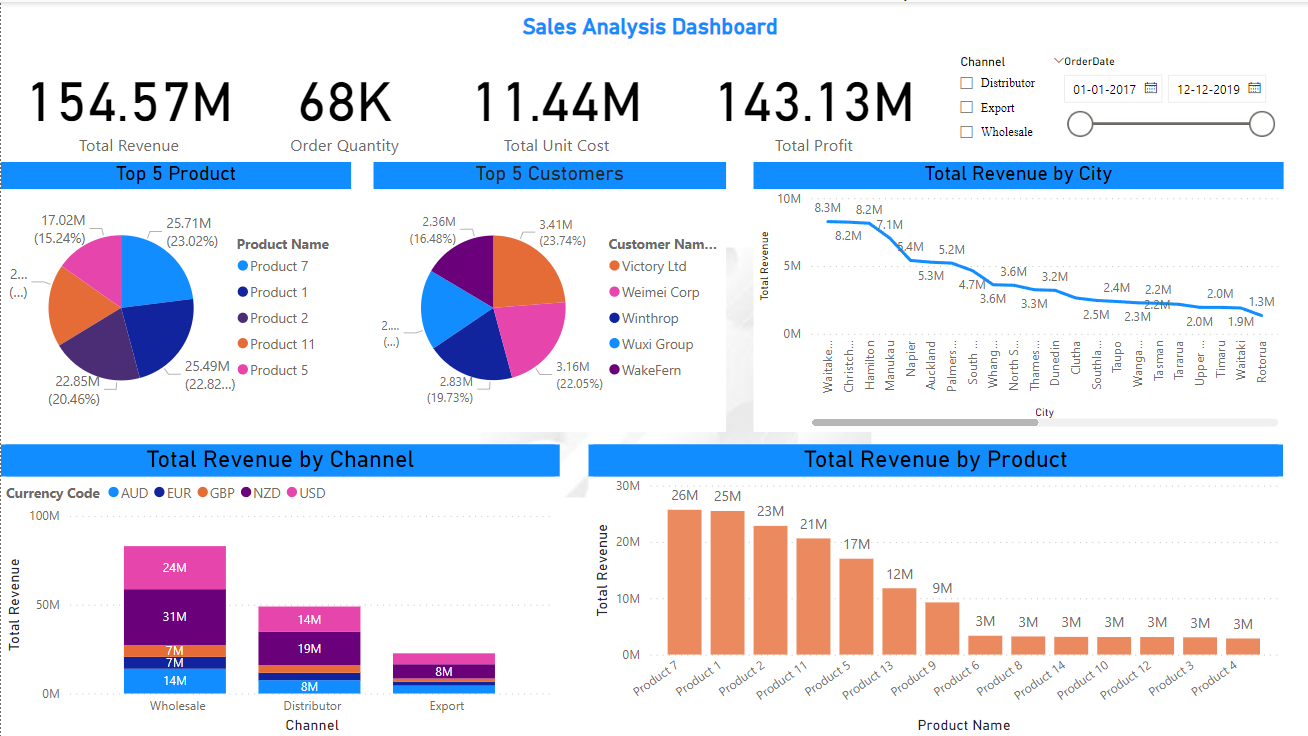

Layout of this report page (visuals, bound fields, positions):
{"tool":"powerbi","page":{"name":"Page 1","canvas":[1280,720],"ordinal":0},"visuals":[{"type":"columnChart","title":"Total Revenue by Product","fields":{"Y":["Sum(Sales_Data.Total Revenue)"],"Category":["Products_Data.Product Name"]},"box":[574.9,432.6,679.1,287.4],"z":0},{"type":"columnChart","title":"Total Revenue by Channel","fields":{"Y":["Sum(Sales_Data.Total Revenue)"],"Category":["Sales_Data.Channel"],"Series":["Sales_Data.Currency Code"]},"box":[0,432.7,546.4,287.3],"z":1000},{"type":"pieChart","title":"Top 5 Product","fields":{"Category":["Products_Data.Product Name"],"Y":["Sum(Sales_Data.Total Revenue)"]},"box":[0,156.5,342.3,264],"z":2000},{"type":"lineChart","title":"Total Revenue by City","fields":{"Y":["Sum(Sales_Data.Total Revenue)"],"Category":["Regions_Table.City"]},"box":[735.9,156.5,518.3,264],"z":3000},{"type":"card","fields":{"Values":["Sum(Sales_Data.Total Revenue)"]},"box":[0,46.5,250.8,109.9],"z":4000},{"type":"card","fields":{"Values":["Sum(Sales_Data.Order Quantity)"]},"box":[250.6,46.5,171.1,110],"z":5000},{"type":"textbox","box":[0,5.6,1163.8,40.9],"z":6000},{"type":"card","fields":{"Values":["Sum(Sales_Data.Total Unit Cost)"]},"box":[421.7,46.5,243.3,110],"z":7000},{"type":"card","fields":{"Values":["Sum(Sales_Data.Total Profit)"]},"box":[665,46.5,260.4,110],"z":8000},{"type":"slicer","fields":{"Values":["Sales_Data.Channel"]},"box":[925.4,46.5,127.1,107.6],"z":9000},{"type":"slicer","fields":{"Values":["Sales_Data.OrderDate"]},"box":[1026.8,46.5,227.4,110],"z":10000},{"type":"pieChart","title":"Top 5 Customers","fields":{"Category":["Customer_Data.Customer Names"],"Y":["Sum(Sales_Data.Total Revenue)"]},"box":[364.3,156.5,344.7,264],"z":11000}]}

Visuals, with their boxes in screenshot pixels (x1, y1, x2, y2), scaled from the page's 1280x720 canvas onto the 1308x736 screenshot:
"Total Revenue by Product" columnChart: bbox=[587, 442, 1281, 735]
"Total Revenue by Channel" columnChart: bbox=[0, 442, 558, 735]
"Top 5 Product" pieChart: bbox=[0, 160, 350, 430]
"Total Revenue by City" lineChart: bbox=[752, 160, 1282, 430]
card - Sum(Sales_Data.Total Revenue): bbox=[0, 48, 256, 160]
card - Sum(Sales_Data.Order Quantity): bbox=[256, 48, 431, 160]
textbox: bbox=[0, 6, 1189, 48]
card - Sum(Sales_Data.Total Unit Cost): bbox=[431, 48, 680, 160]
card - Sum(Sales_Data.Total Profit): bbox=[680, 48, 946, 160]
slicer - Sales_Data.Channel: bbox=[946, 48, 1076, 158]
slicer - Sales_Data.OrderDate: bbox=[1049, 48, 1282, 160]
"Top 5 Customers" pieChart: bbox=[372, 160, 725, 430]
